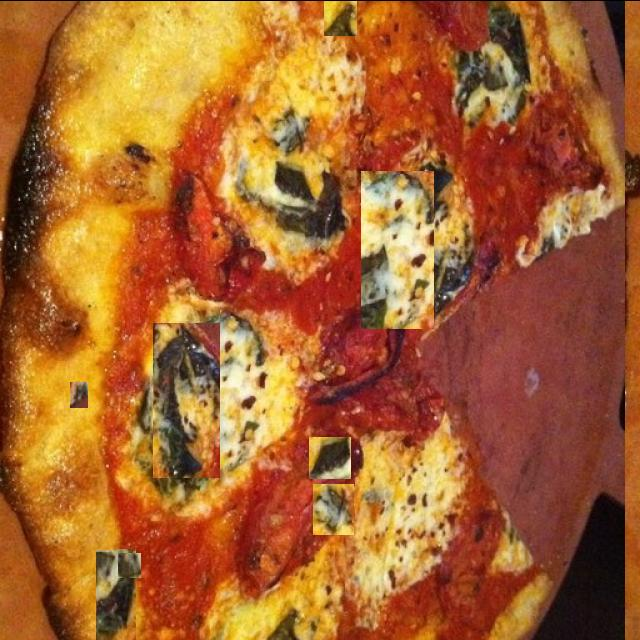basil: (361, 170, 434, 328), (154, 321, 222, 476), (406, 141, 485, 256), (278, 401, 384, 470), (96, 548, 136, 639), (462, 198, 488, 282), (313, 483, 354, 534), (136, 532, 166, 591), (309, 436, 351, 478), (324, 0, 357, 35), (96, 516, 116, 550), (118, 550, 141, 576), (70, 381, 88, 407)
pizza: (0, 0, 625, 640)
